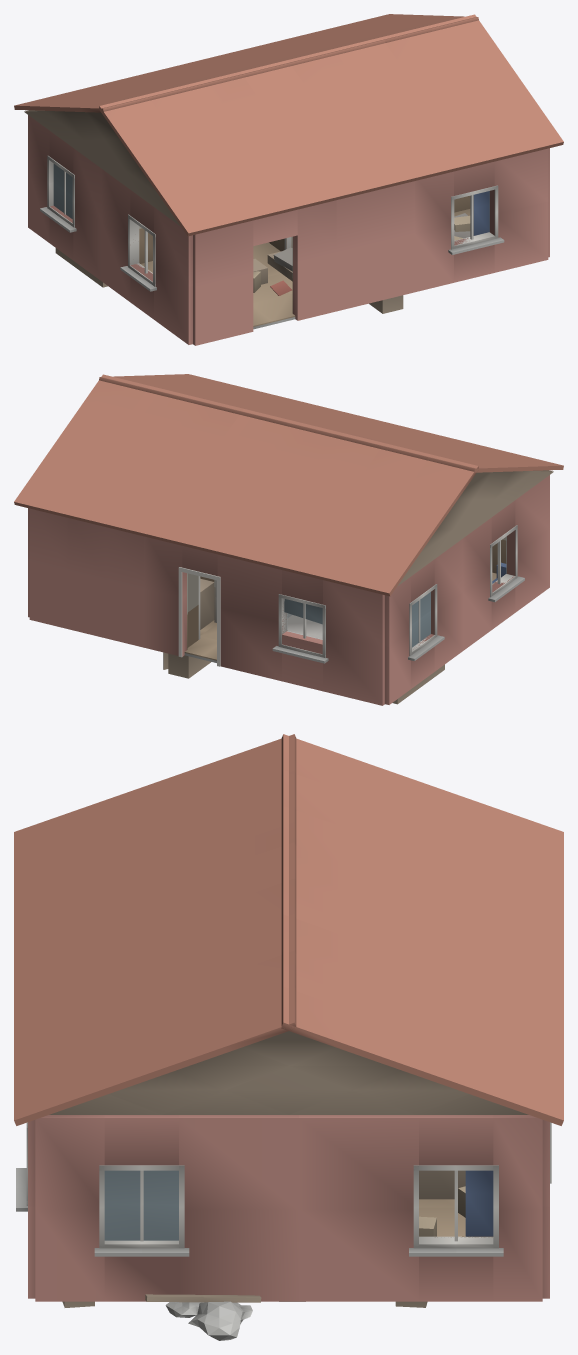
File: casa_r7.glb
The picture shows the model from 3 angles, top to bottom: view 1: azimuth 30°, elevation 25°; view 2: azimuth 150°, elevation 25°; view 3: azimuth 270°, elevation 25°; orthographic projection. The views are drawn at different scales.
Parts seen in each view (by area): view 1: longe, ext, detalhe, dentro, tv_sala; view 2: longe, ext, detalhe, dentro, guarda_roupa_quarto2; view 3: longe, ext, detalhe, dentro, guarda_roupa_quarto2.
Part boxes in pixels (x1,y1,x2,y2): longe: (14,14,563,236); ext: (28,115,549,345); detalhe: (40,155,504,291); dentro: (139,196,470,329); tv_sala: (267,247,292,281); longe: (14,374,563,596); ext: (28,475,549,705); detalhe: (178,525,524,666); dentro: (184,537,506,662); guarda_roupa_quarto2: (163,578,214,678); longe: (14,734,563,1125); ext: (28,1115,549,1301); detalhe: (16,1122,551,1340); dentro: (419,1186,492,1237); guarda_roupa_quarto2: (419,1170,465,1199).
Size of what is drawn, in the model's own units: 11.09 by 5.59 by 8.14.
